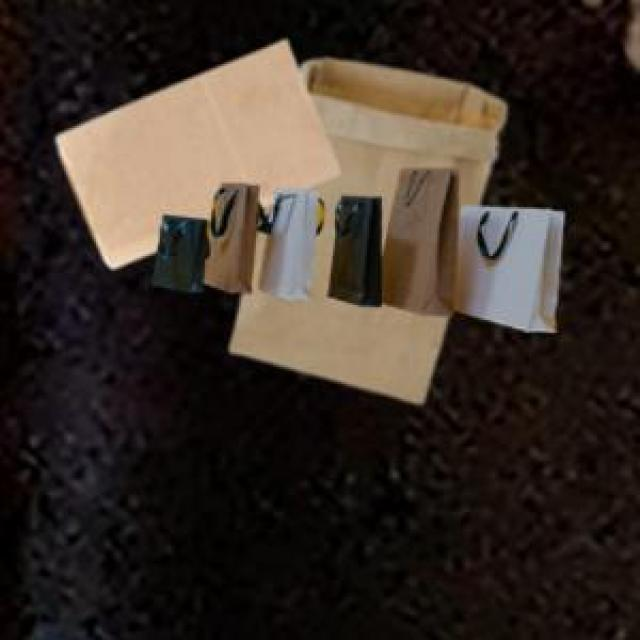PaperCardboard: (56, 40, 565, 407)
